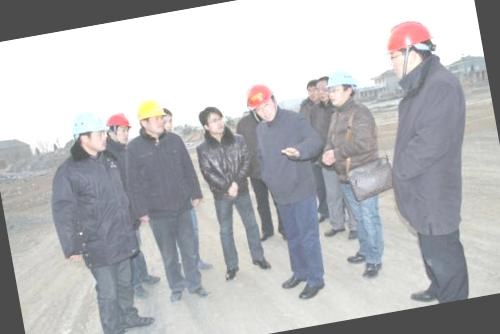no_helmet: (194, 100, 230, 144), (312, 74, 336, 108), (300, 76, 322, 108)
